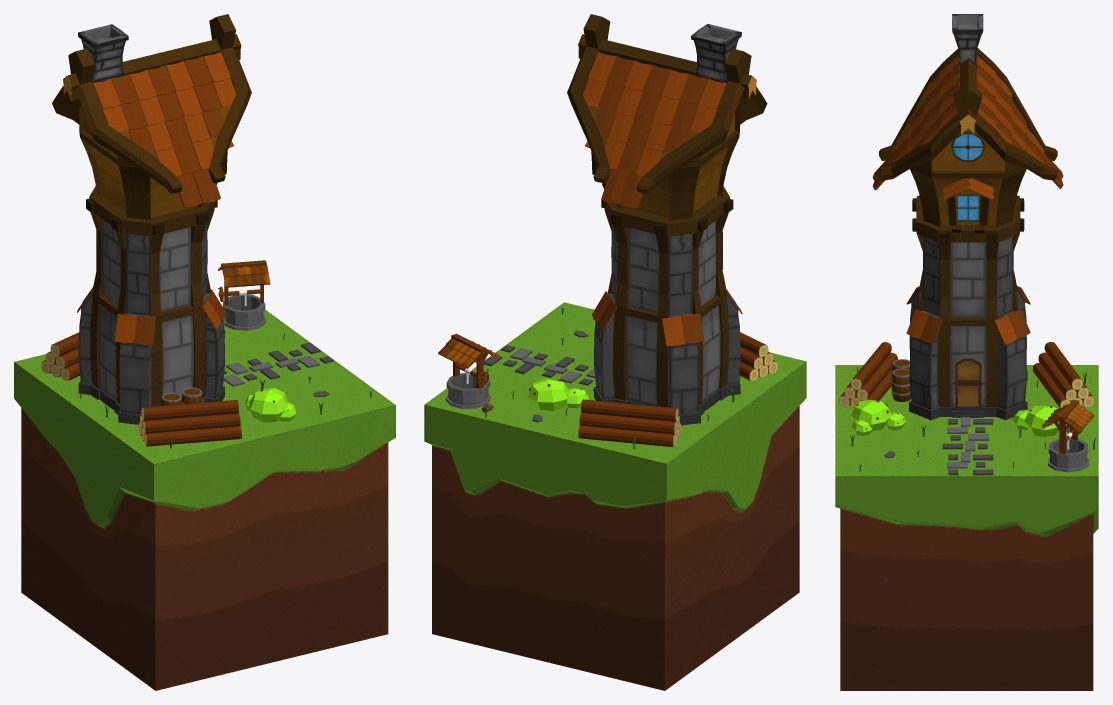
Rendered from Concepts_2.fbx.
3 views of the same model, side by side, from view 1: azimuth 30°, elevation 25°; view 2: azimuth 150°, elevation 25°; view 3: azimuth 270°, elevation 25° (orthographic). The views are drawn at different scales.
Parts seen in each view (by area): view 1: Cube.044, Cube.043, Cube.046, Cube.050, Cube.047, Cube.048, Cube.045; view 2: Cube.044, Cube.043, Cube.045, Cube.050, Cube.047, Cube.049, Cube.046; view 3: Cube.044, Cube.043, Cube.050, Cube.045, Cube.046, Cube.047, Cube.048, Cube.049, Cube.055.
Part boxes in pixels (x1=…): Cube.044: x1=14, y1=309, x2=395, y2=690; Cube.043: x1=52, y1=14, x2=251, y2=424; Cube.046: x1=138, y1=400, x2=241, y2=446; Cube.050: x1=218, y1=260, x2=270, y2=330; Cube.047: x1=223, y1=342, x2=333, y2=386; Cube.048: x1=245, y1=388, x2=296, y2=422; Cube.045: x1=41, y1=332, x2=80, y2=380; Cube.044: x1=424, y1=302, x2=806, y2=690; Cube.043: x1=567, y1=14, x2=767, y2=425; Cube.045: x1=578, y1=399, x2=680, y2=447; Cube.050: x1=438, y1=333, x2=499, y2=408; Cube.047: x1=483, y1=345, x2=595, y2=391; Cube.049: x1=528, y1=378, x2=588, y2=411; Cube.046: x1=739, y1=332, x2=777, y2=381; Cube.044: x1=835, y1=365, x2=1098, y2=690; Cube.043: x1=872, y1=14, x2=1063, y2=420; Cube.050: x1=1042, y1=399, x2=1094, y2=472; Cube.045: x1=1033, y1=341, x2=1094, y2=407; Cube.046: x1=839, y1=342, x2=897, y2=407; Cube.047: x1=942, y1=417, x2=993, y2=475; Cube.048: x1=851, y1=400, x2=905, y2=435; Cube.049: x1=1012, y1=405, x2=1059, y2=436; Cube.055: x1=891, y1=374, x2=910, y2=401.
Size of the model in its own units: 321 by 718 by 301.
